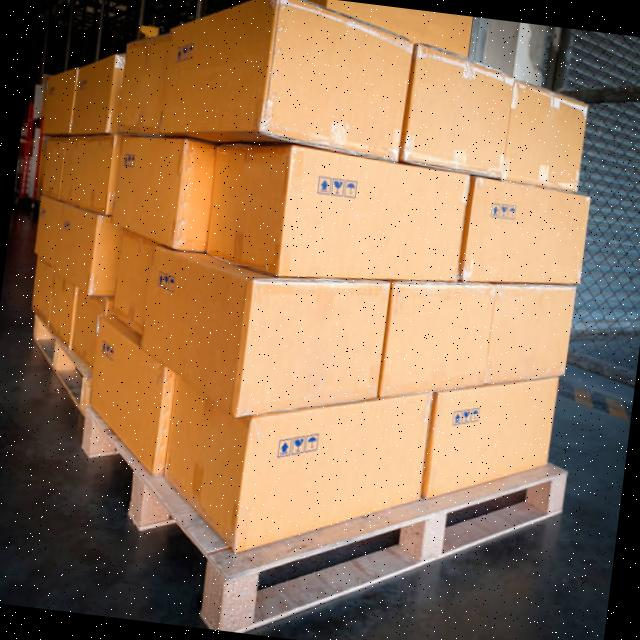Wooden-Pallets: (69, 399, 568, 632), (27, 298, 92, 414)
